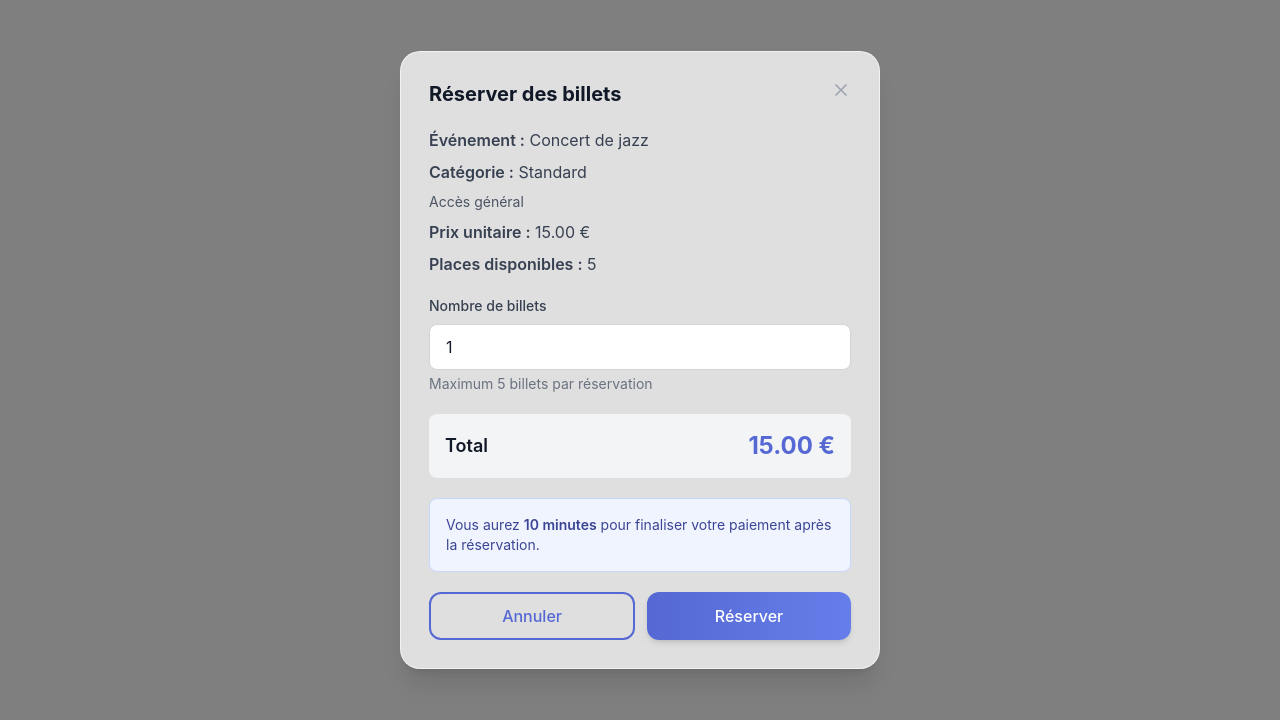
Test case: BookingModal › updates the total price as quantity changes
Replace the text in the number field labelled "Nombre de billets" with "3" at (640, 347), box top-left (429, 324), bottom-right (851, 370)
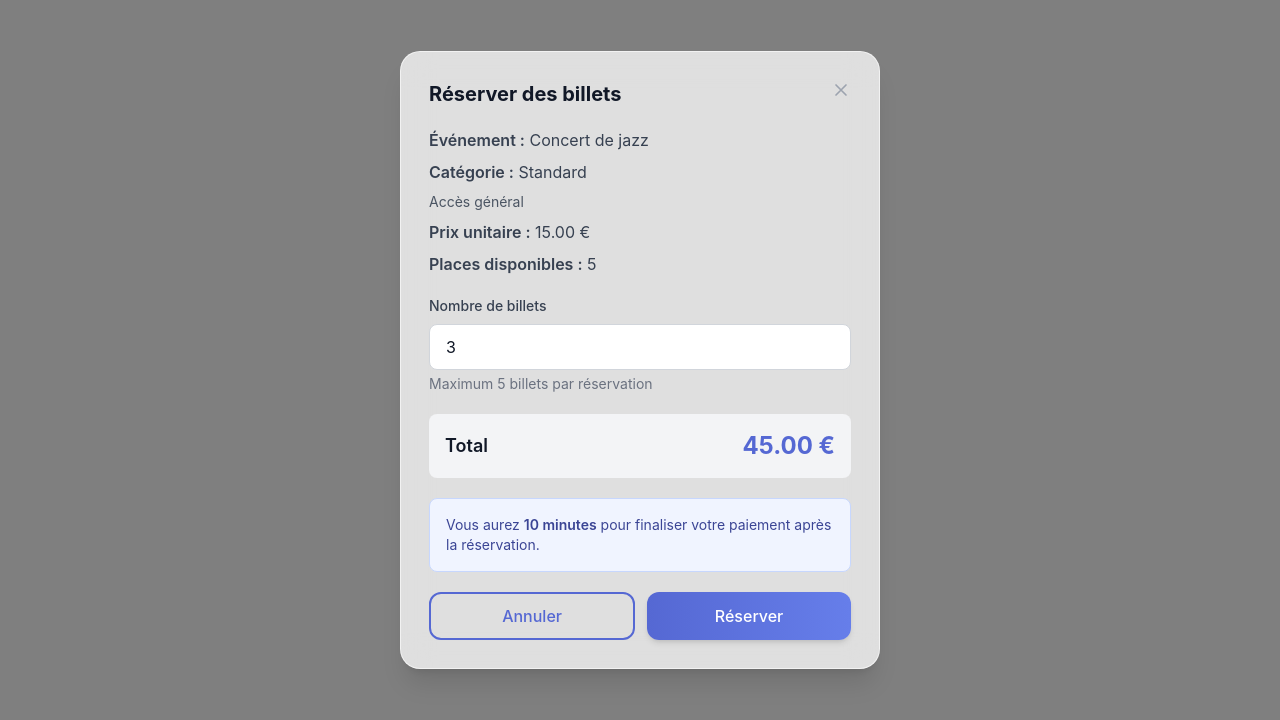
Now the text "45.00 €" is shown, box top-left (743, 430), bottom-right (835, 462)
